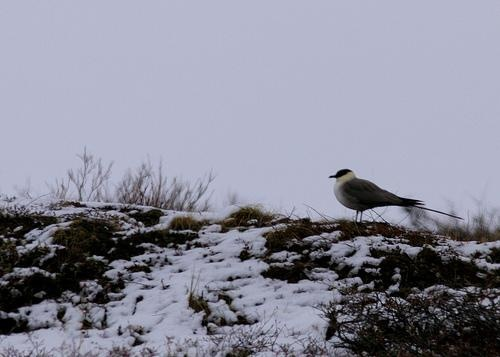bird: (328, 161, 460, 228)
